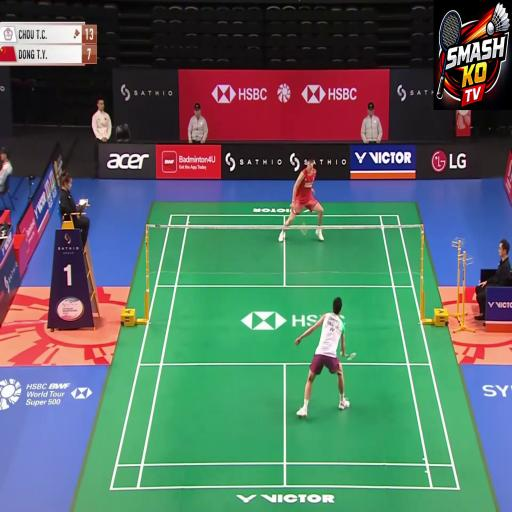player: (308, 264, 360, 430), (266, 136, 331, 256)
